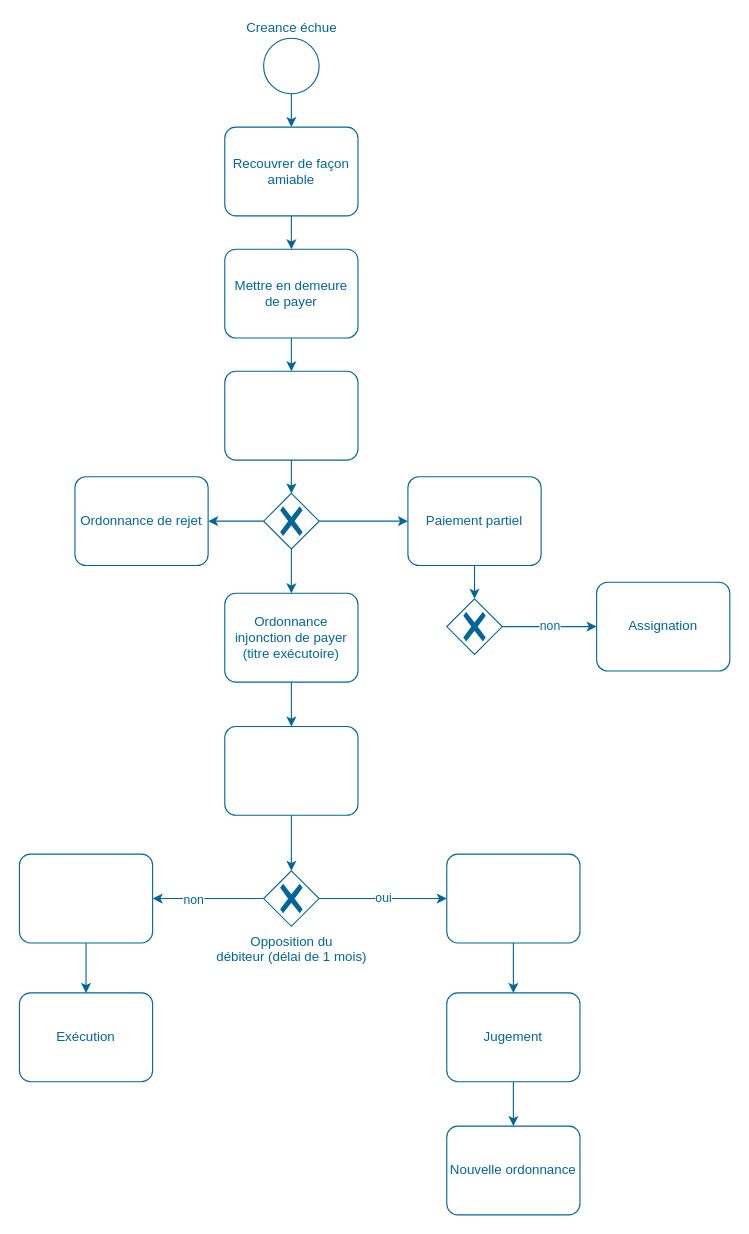
Image size: 749x1234. Some labels were removed from this diagram. Here are the shapes that lost their labels. From the top down, the centre of each, then its label:
(291,415): Demander une injonction de payer
(474,626): Créancier ok ?
(291,770): Signification de l'ordonnance (delai de 6 mois)
(85,898): Certificat d'absence d'opposition
(513,898): Convocation des parties
